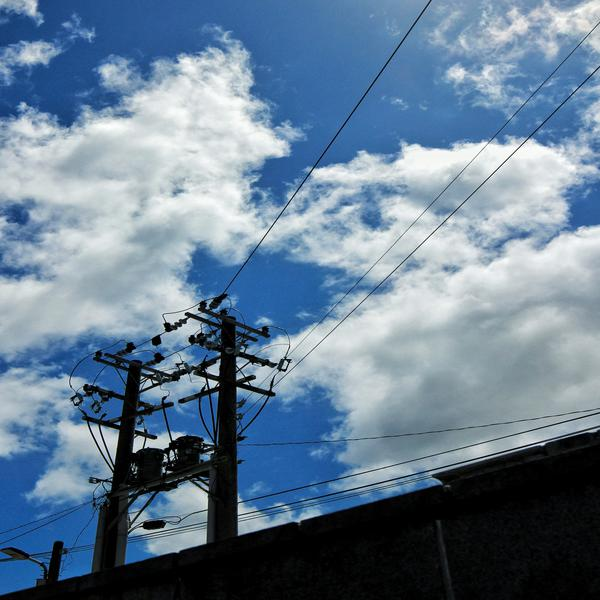utility_pole: (181, 291, 288, 425), (69, 334, 179, 458)
